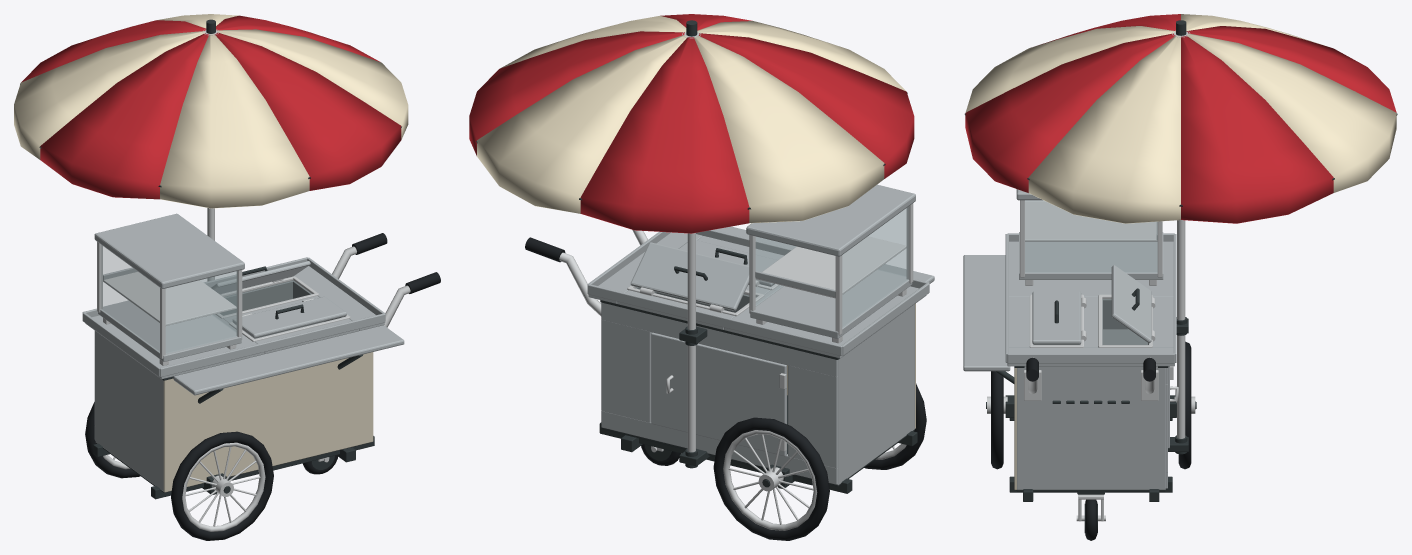
The model's file is street_food_cart_LOD1.glb.
The picture shows the model from 3 angles, left to right: view 1: azimuth 30°, elevation 25°; view 2: azimuth 150°, elevation 25°; view 3: azimuth 270°, elevation 25°; orthographic projection. The views are drawn at different scales.
Parts seen in each view (by area): view 1: cabinet_customer_wall, canopy_panel_5, canopy_panel_4, canopy_panel_6, canopy_panel_3, cabinet_far_end, display_roof, canopy_panel_7, customer_serving_shelf, display_customer_glass, display_tray, display_end_glass_-0.567 (+18 smaller); view 2: canopy_panel_2, canopy_panel_3, canopy_panel_1, fitted_service_door, canopy_panel_4, cabinet_far_end, canopy_panel_0, display_roof, display_tray, display_end_glass_-0.567, service_back_jamb_0.455, lid_back (+28 smaller); view 3: canopy_panel_0, canopy_panel_7, cabinet_push_end, canopy_panel_1, canopy_panel_6, display_end_glass_-0.141, customer_serving_shelf, display_tray, canopy_panel_5, canopy_panel_2, display_mid_shelf, counter_display_base (+14 smaller).
Boxes of the visible parts, box(x1,y1,x2,y2) form: cabinet_customer_wall: box(163, 352, 373, 492); canopy_panel_5: box(160, 34, 309, 208); canopy_panel_4: box(40, 33, 208, 199); canopy_panel_6: box(215, 32, 401, 190); canopy_panel_3: box(14, 31, 204, 159); cabinet_far_end: box(95, 331, 163, 491); display_roof: box(94, 213, 244, 288); canopy_panel_7: box(217, 29, 408, 139); customer_serving_shelf: box(173, 325, 404, 395); display_customer_glass: box(166, 271, 237, 353); display_tray: box(98, 300, 241, 361); display_end_glass_-0.567: box(101, 245, 159, 351); canopy_panel_2: box(580, 37, 749, 233); canopy_panel_3: box(694, 35, 884, 223); canopy_panel_1: box(477, 35, 687, 213); fitted_service_door: box(651, 332, 786, 456); canopy_panel_4: box(699, 33, 914, 178); cabinet_far_end: box(837, 304, 914, 485); canopy_panel_0: box(469, 31, 684, 155); display_roof: box(746, 184, 915, 256); display_tray: box(750, 269, 912, 338); display_end_glass_-0.567: box(842, 207, 908, 327); service_back_jamb_0.455: box(601, 319, 652, 422); lid_back: box(630, 242, 749, 310); canopy_panel_0: box(1181, 35, 1333, 223); canopy_panel_7: box(1028, 36, 1180, 223); cabinet_push_end: box(1017, 366, 1165, 489); canopy_panel_1: box(1187, 33, 1396, 192); canopy_panel_6: box(965, 33, 1175, 192); display_end_glass_-0.141: box(1025, 200, 1157, 272); customer_serving_shelf: box(963, 255, 1010, 371); display_tray: box(1019, 232, 1163, 279); canopy_panel_5: box(965, 26, 1175, 112); canopy_panel_2: box(1186, 26, 1396, 112); display_mid_shelf: box(1025, 201, 1157, 241); counter_display_base: box(1009, 241, 1173, 296).
Size of the model in its own units: 1.89 by 2.31 by 1.89.
